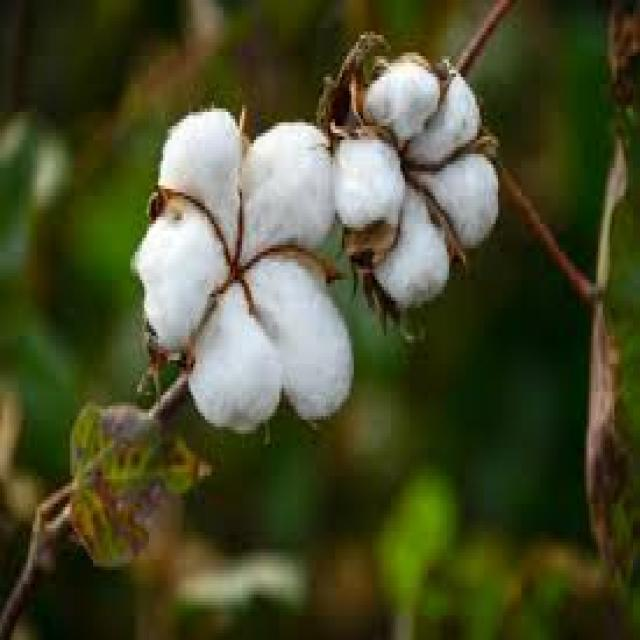Matured Cotton Boll: (136, 101, 352, 431), (335, 56, 502, 312)
